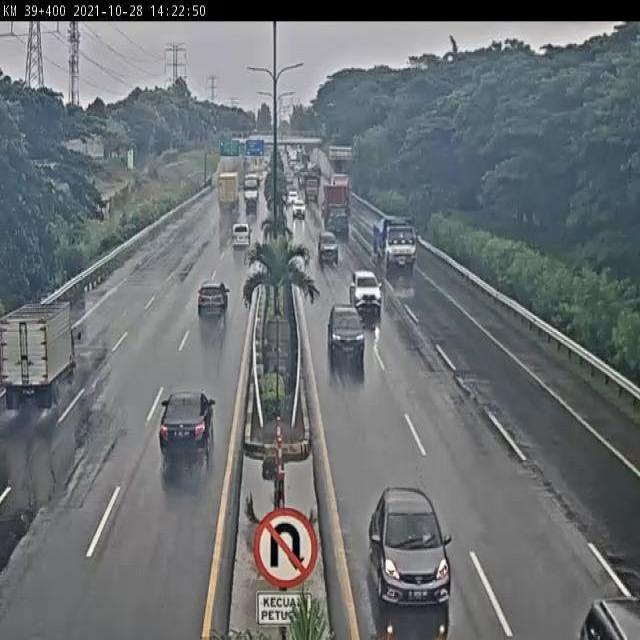car: (367, 484, 454, 607), (327, 306, 367, 374)
truck-l-: (371, 217, 419, 276)
truck-m-: (1, 303, 81, 409)
truck-xl-: (325, 185, 354, 240)
